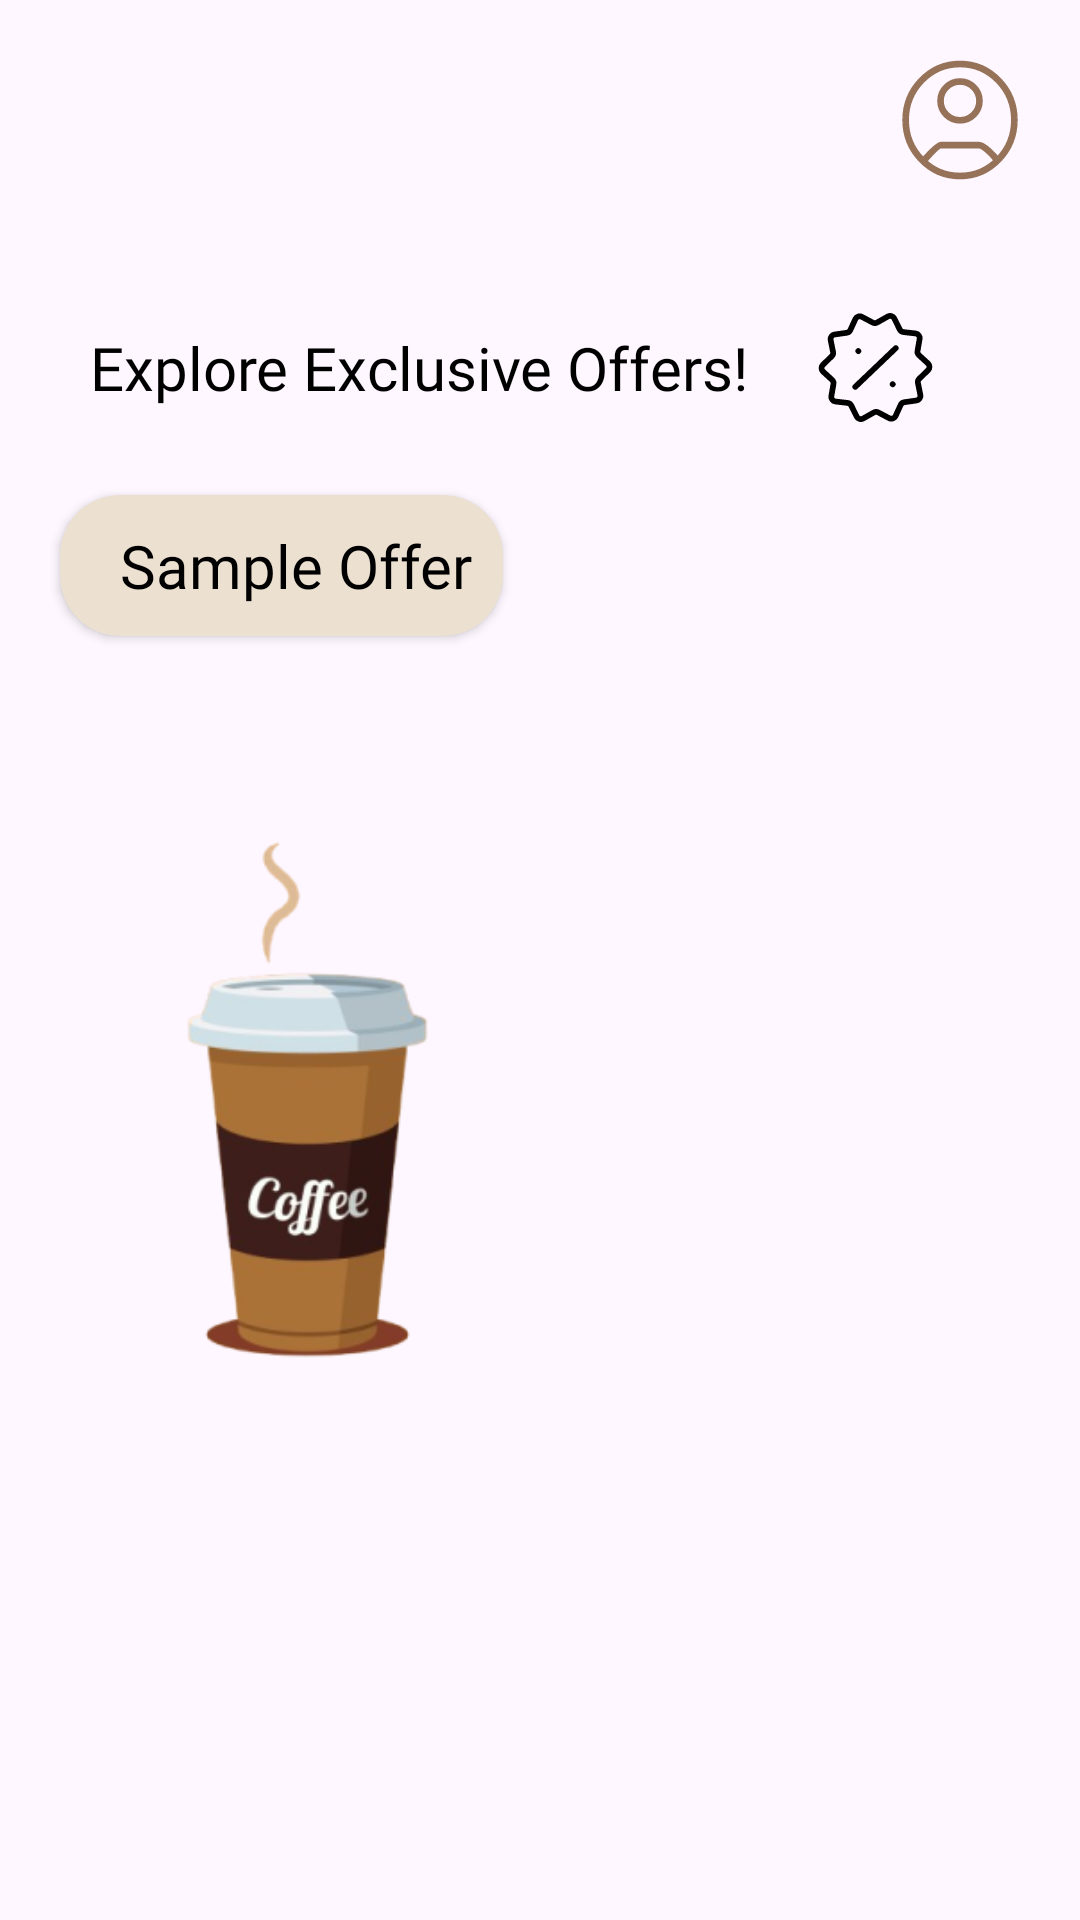

Where icons sit on this 1080px×1920px app screen, as Rect(x1, y1, x2, y2):
discount star: Rect(818, 313, 933, 422)
user profile circle: Rect(902, 60, 1018, 180)
